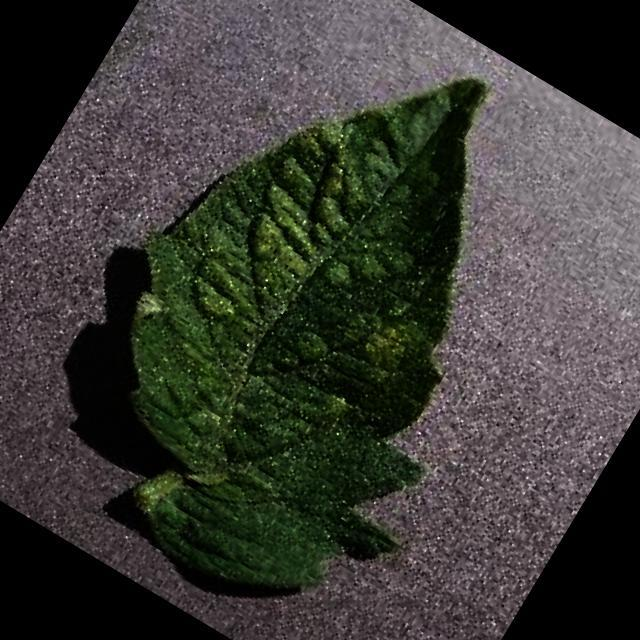Tomato spider mites leaf: (6, 0, 630, 640)
